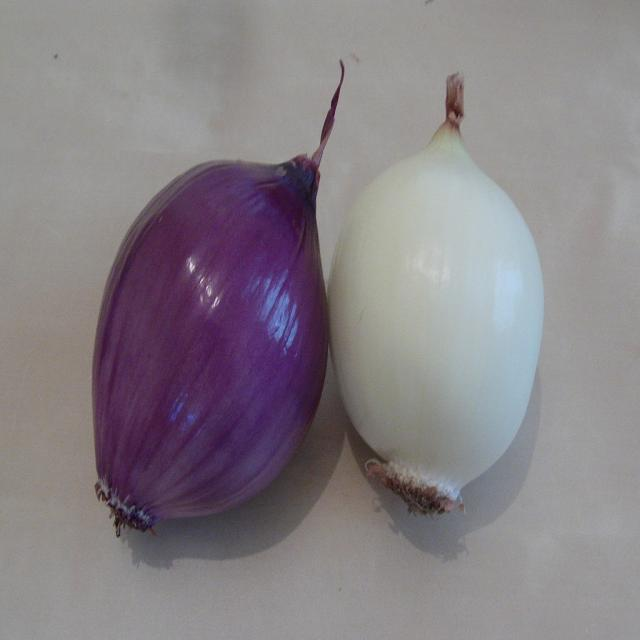onion: (329, 76, 550, 519), (90, 152, 331, 537)
